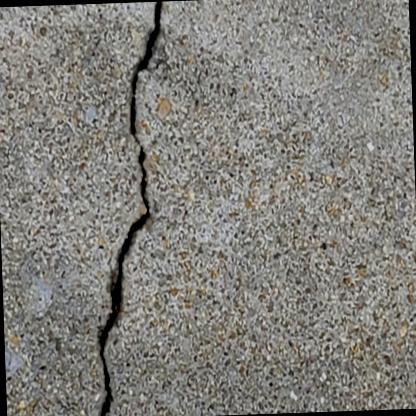crack: (97, 1, 165, 416)
